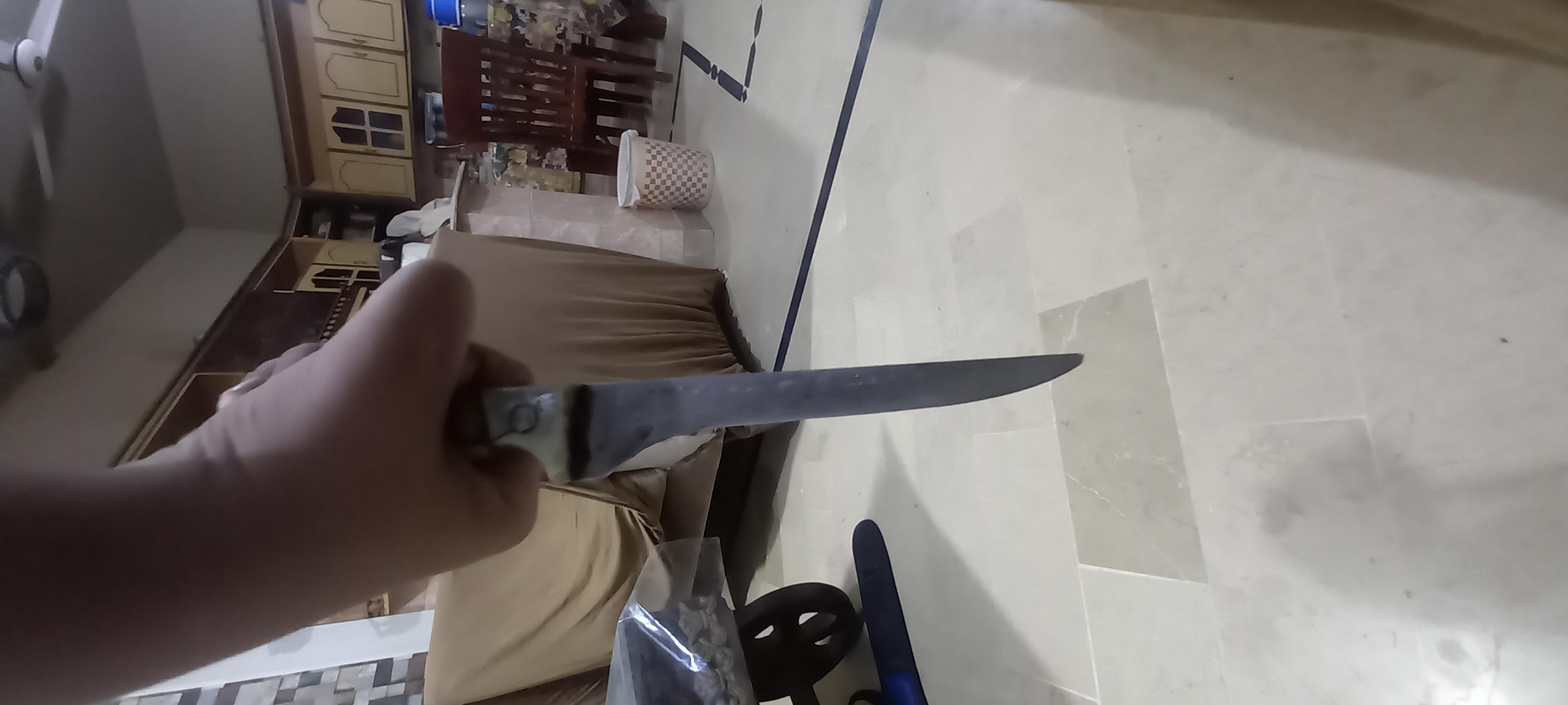knives: (410, 188, 910, 503)
